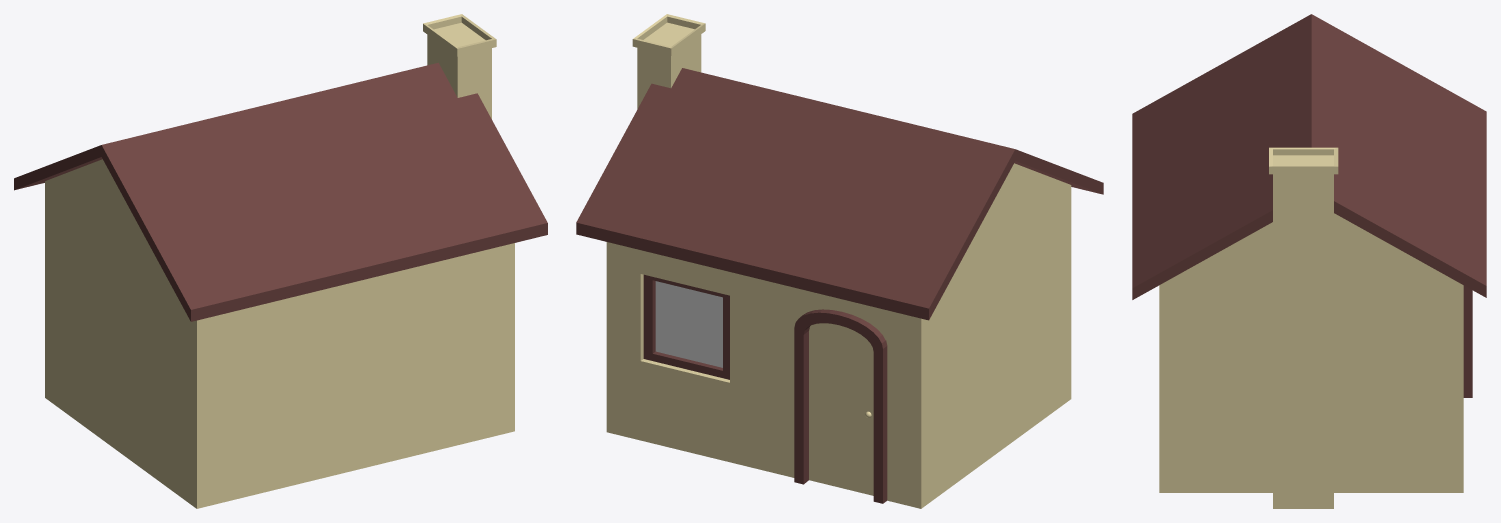
The model's file is house.fbx.
3 views of the same model, side by side, from view 1: azimuth 30°, elevation 25°; view 2: azimuth 150°, elevation 25°; view 3: azimuth 270°, elevation 25° (orthographic).
Visible parts, largest first — view 1: Cube.001, Cube.001_Cube.002, Cube.004_Cube.005; view 2: Cube.001, Cube.001_Cube.002, Cube.002_Cube.003, Cube.008_Cube.009, Cube.004_Cube.005, Cube.007_Cube.008; view 3: Cube.001_Cube.002, Cube.001, Cube.004_Cube.005, Cube.002_Cube.003.
Part boxes in pixels (x1,y1,x2,y2): Cube.001: (45, 159, 514, 508); Cube.001_Cube.002: (14, 62, 547, 321); Cube.004_Cube.005: (423, 14, 496, 118); Cube.001: (606, 163, 1071, 508); Cube.001_Cube.002: (576, 68, 1103, 320); Cube.002_Cube.003: (794, 309, 887, 503); Cube.008_Cube.009: (655, 281, 722, 367); Cube.004_Cube.005: (632, 14, 705, 108); Cube.007_Cube.008: (643, 274, 729, 379); Cube.001_Cube.002: (1132, 14, 1486, 299); Cube.001: (1159, 213, 1463, 492); Cube.004_Cube.005: (1269, 147, 1338, 508); Cube.002_Cube.003: (1463, 285, 1472, 397).
Bounding box in the file's own units: 489 × 429 × 401.
